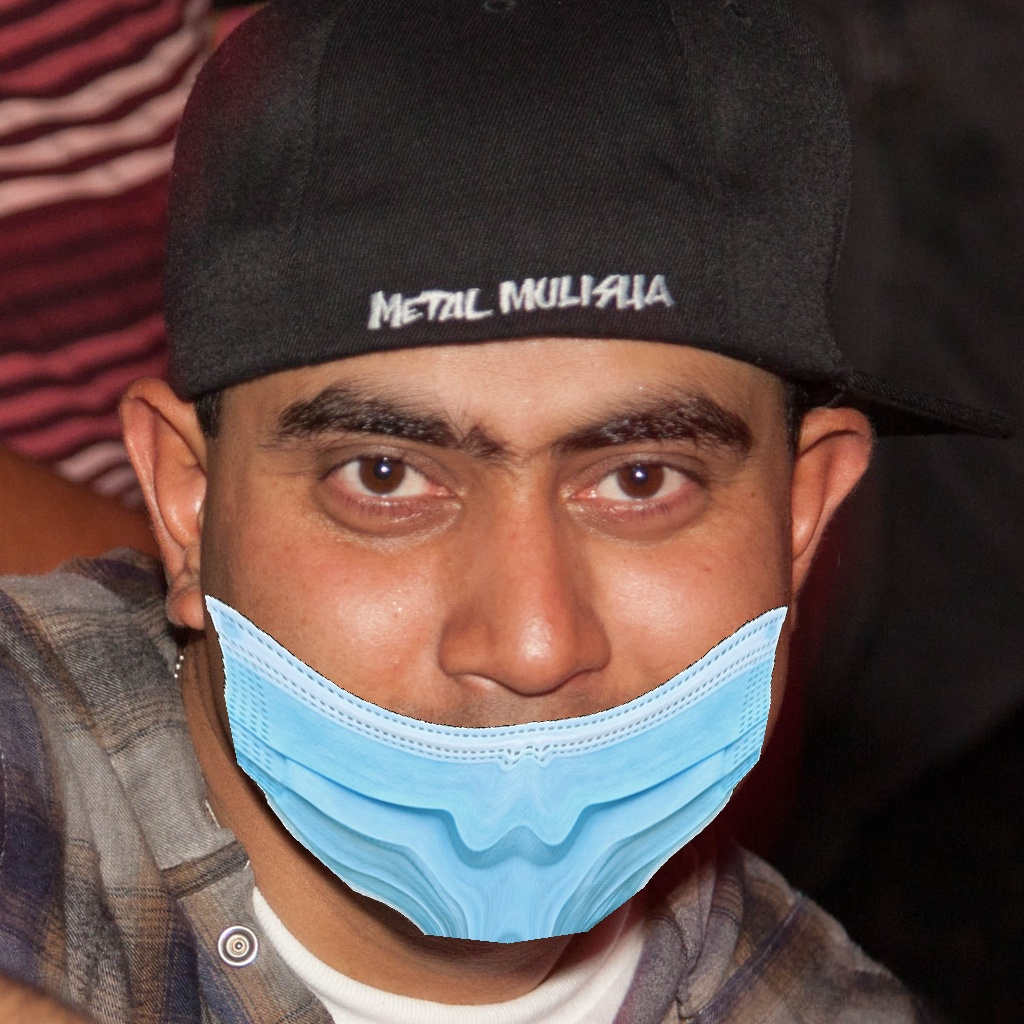mascarilla_mal_puesta: (177, 318, 857, 975)
